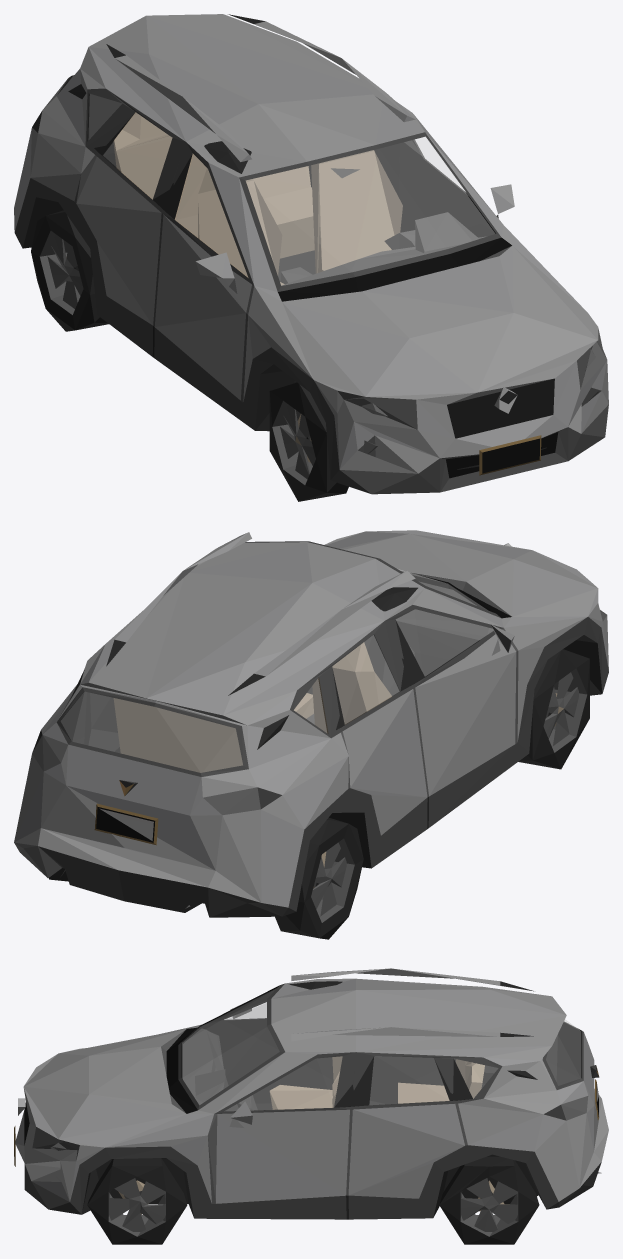
File: suv.glb
3 renders of one model, top to bottom at view 1: azimuth 30°, elevation 25°; view 2: azimuth 150°, elevation 25°; view 3: azimuth 270°, elevation 25°, orthographic. The views are drawn at different scales.
Visible parts, largest first — view 1: suv; view 2: suv; view 3: suv.
Boxes of the visible parts, x1,y1,x2,y2 form: suv: [14, 14, 608, 501]; suv: [14, 530, 608, 939]; suv: [14, 968, 608, 1244].
Bounding box in the file's own units: 2.31 × 1.88 × 4.97.
Materials: 2 (1 with a texture image).
